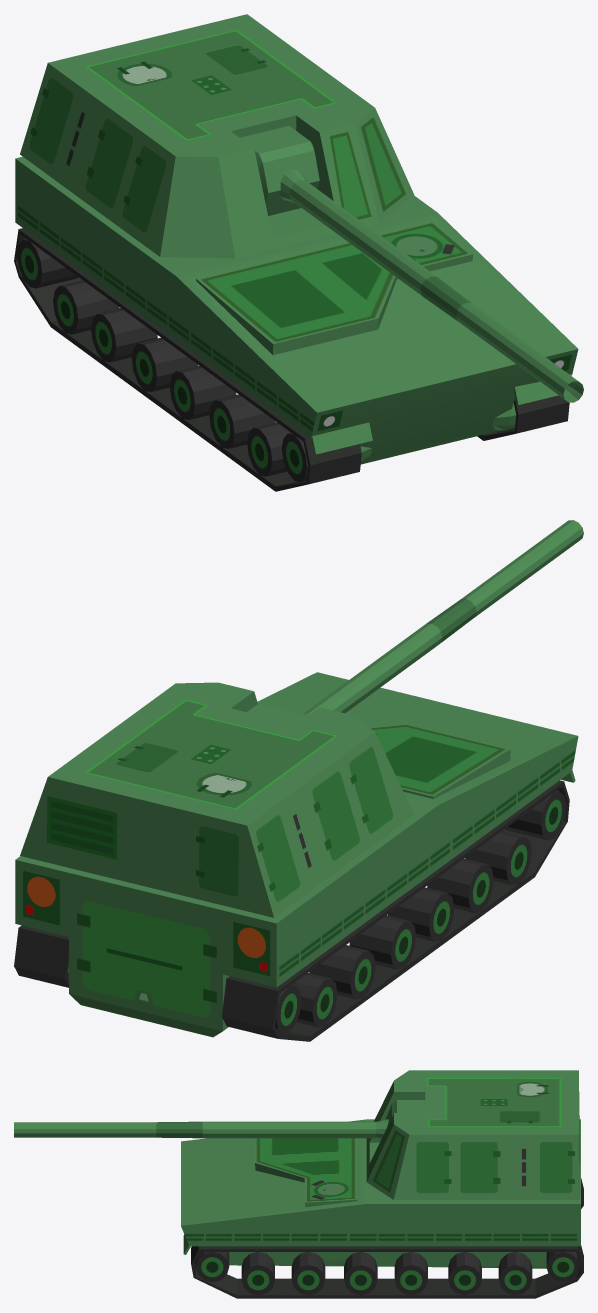
File: SelfPropelledArtillery_01.fbx
3 views of the same model, one above another, from view 1: azimuth 30°, elevation 25°; view 2: azimuth 150°, elevation 25°; view 3: azimuth 270°, elevation 25° (orthographic). The views are drawn at different scales.
Parts seen in each view (by area): view 1: SelfPropelledArtillery_01_LowerBody, SelfPropelledArtillery_01_UpperBody, SelfPropelledArtillery_01_MainGun, SelfPropelledArtillery_01_RightCaterPillar, SelfPropelledArtillery_01_MainGunBody, SelfPropelledArtillery_01_RightWheel03, SelfPropelledArtillery_01_RightWheel05, SelfPropelledArtillery_01_RightWheel02, SelfPropelledArtillery_01_RightWheel04, SelfPropelledArtillery_01_RightWheel06, SelfPropelledArtillery_01_LeftCaterPillar, SelfPropelledArtillery_01_RightWheel07 (+2 smaller); view 2: SelfPropelledArtillery_01_LowerBody, SelfPropelledArtillery_01_UpperBody, SelfPropelledArtillery_01_RightCaterPillar, SelfPropelledArtillery_01_MainGun, SelfPropelledArtillery_01_LeftCaterPillar, SelfPropelledArtillery_01_RightWheel04, SelfPropelledArtillery_01_RightWheel06, SelfPropelledArtillery_01_RightWheel03, SelfPropelledArtillery_01_RightWheel05, SelfPropelledArtillery_01_RightWheel07, SelfPropelledArtillery_01_RightWheel02, SelfPropelledArtillery_01_RightWheel08 (+1 smaller); view 3: SelfPropelledArtillery_01_LowerBody, SelfPropelledArtillery_01_UpperBody, SelfPropelledArtillery_01_LeftCaterPillar, SelfPropelledArtillery_01_MainGun, SelfPropelledArtillery_01_LeftWheel03, SelfPropelledArtillery_01_LeftWheel07, SelfPropelledArtillery_01_LeftWheel06, SelfPropelledArtillery_01_LeftWheel04, SelfPropelledArtillery_01_LeftWheel02, SelfPropelledArtillery_01_LeftWheel05, SelfPropelledArtillery_01_LeftWheel01, SelfPropelledArtillery_01_LeftWheel08 (+1 smaller).
Part boxes in pixels (x1=…): SelfPropelledArtillery_01_LowerBody: x1=15, y1=156, x2=578, y2=464; SelfPropelledArtillery_01_UpperBody: x1=20, y1=14, x2=414, y2=258; SelfPropelledArtillery_01_MainGun: x1=280, y1=169, x2=583, y2=402; SelfPropelledArtillery_01_RightCaterPillar: x1=14, y1=228, x2=361, y2=491; SelfPropelledArtillery_01_MainGunBody: x1=240, y1=126, x2=319, y2=215; SelfPropelledArtillery_01_RightWheel03: x1=91, y1=308, x2=157, y2=362; SelfPropelledArtillery_01_RightWheel05: x1=169, y1=365, x2=236, y2=419; SelfPropelledArtillery_01_RightWheel02: x1=53, y1=280, x2=119, y2=334; SelfPropelledArtillery_01_RightWheel04: x1=131, y1=337, x2=198, y2=392; SelfPropelledArtillery_01_RightWheel06: x1=209, y1=394, x2=275, y2=448; SelfPropelledArtillery_01_LeftCaterPillar: x1=477, y1=395, x2=569, y2=440; SelfPropelledArtillery_01_RightWheel07: x1=247, y1=422, x2=290, y2=476; SelfPropelledArtillery_01_LowerBody: x1=15, y1=672, x2=578, y2=1037; SelfPropelledArtillery_01_UpperBody: x1=20, y1=682, x2=414, y2=917; SelfPropelledArtillery_01_RightCaterPillar: x1=222, y1=780, x2=569, y2=1041; SelfPropelledArtillery_01_MainGun: x1=303, y1=520, x2=583, y2=715; SelfPropelledArtillery_01_LeftCaterPillar: x1=14, y1=925, x2=68, y2=987; SelfPropelledArtillery_01_RightWheel04: x1=349, y1=915, x2=416, y2=969; SelfPropelledArtillery_01_RightWheel06: x1=427, y1=858, x2=493, y2=912; SelfPropelledArtillery_01_RightWheel03: x1=309, y1=945, x2=375, y2=999; SelfPropelledArtillery_01_RightWheel05: x1=388, y1=887, x2=454, y2=941; SelfPropelledArtillery_01_RightWheel07: x1=465, y1=831, x2=531, y2=885; SelfPropelledArtillery_01_RightWheel02: x1=292, y1=973, x2=337, y2=1027; SelfPropelledArtillery_01_RightWheel08: x1=505, y1=790, x2=566, y2=840; SelfPropelledArtillery_01_LowerBody: x1=181, y1=1119, x2=580, y2=1268; SelfPropelledArtillery_01_UpperBody: x1=366, y1=1070, x2=579, y2=1199; SelfPropelledArtillery_01_LeftCaterPillar: x1=191, y1=1245, x2=583, y2=1298; SelfPropelledArtillery_01_MainGun: x1=14, y1=1119, x2=388, y2=1139; SelfPropelledArtillery_01_LeftWheel03: x1=291, y1=1252, x2=325, y2=1295; SelfPropelledArtillery_01_LeftWheel07: x1=498, y1=1252, x2=532, y2=1295; SelfPropelledArtillery_01_LeftWheel06: x1=448, y1=1252, x2=481, y2=1295; SelfPropelledArtillery_01_LeftWheel04: x1=344, y1=1252, x2=377, y2=1295; SelfPropelledArtillery_01_LeftWheel02: x1=241, y1=1252, x2=274, y2=1295; SelfPropelledArtillery_01_LeftWheel05: x1=394, y1=1252, x2=427, y2=1295; SelfPropelledArtillery_01_LeftWheel01: x1=195, y1=1252, x2=229, y2=1282; SelfPropelledArtillery_01_LeftWheel08: x1=546, y1=1252, x2=579, y2=1282.
Size of the model in its own units: 25.41 by 21.65 by 72.45.
